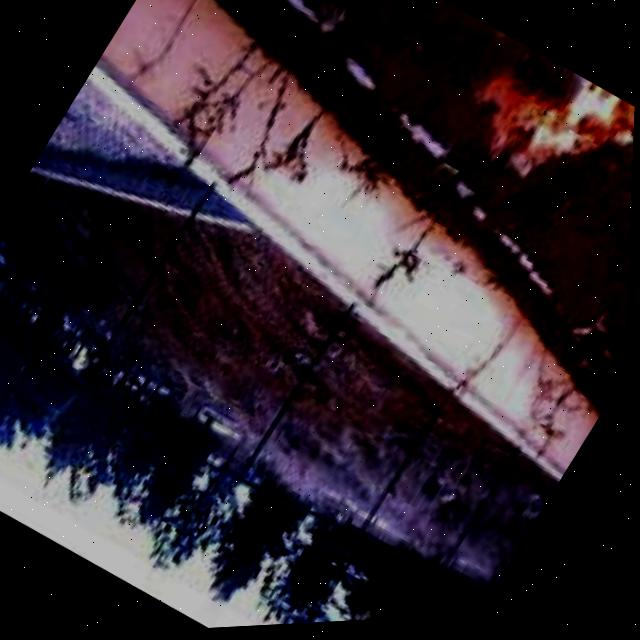Fire: (444, 35, 638, 238)
